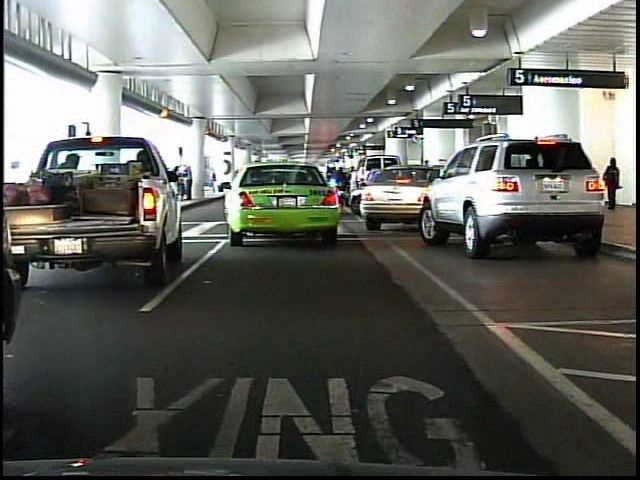person: (606, 158, 628, 216)
